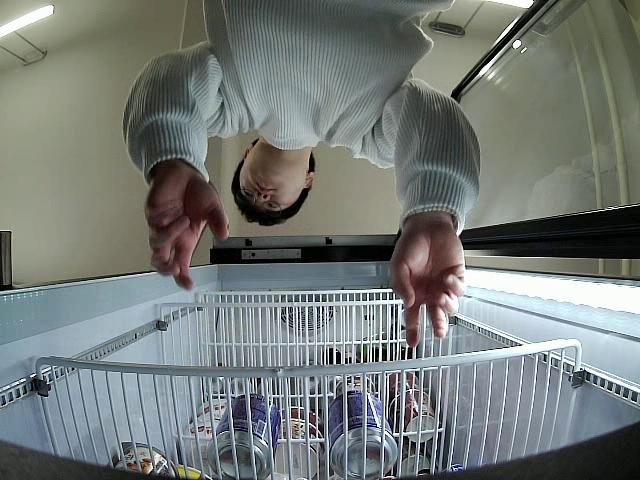00_hand: (144, 169, 231, 289), (389, 226, 469, 342)
